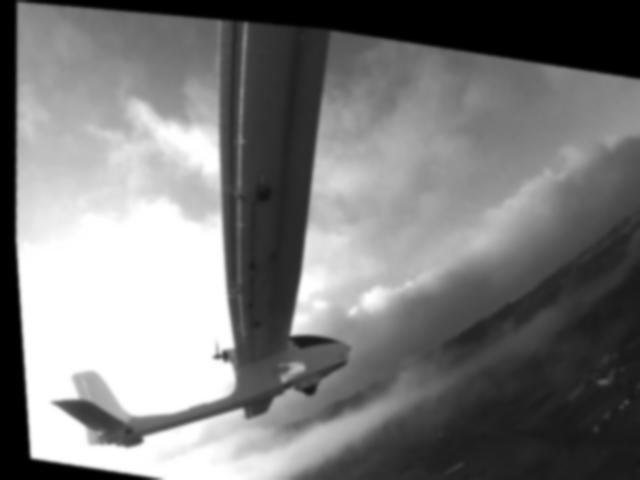hedef: (2, 0, 425, 480)
